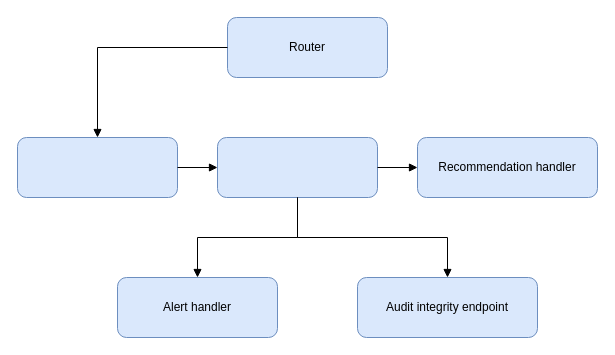
Some shapes in this 615 by 355 pixel diagram are drawn without their labels. The centre of each missing label's shape, as x and y in pixels:
Audit middleware: [297,167]
Auth middleware: [97,167]
